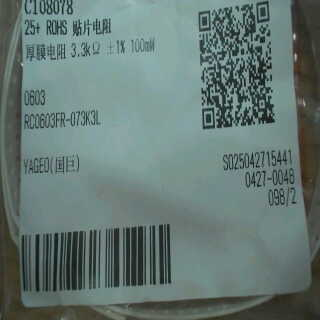3.3kO: (65, 38, 104, 62)
